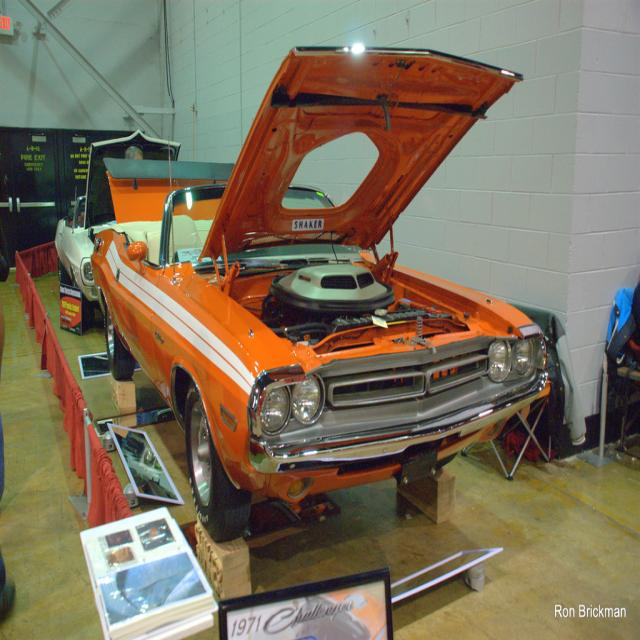car: (88, 61, 542, 571)
